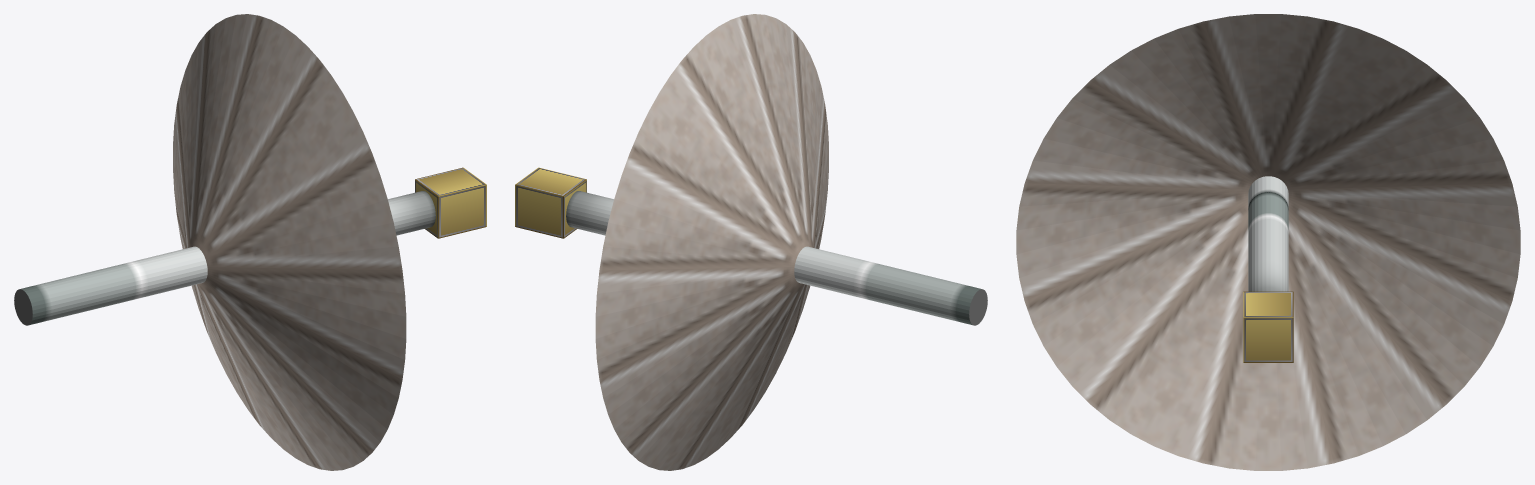
File: apolloj2.obj
3 views of the same model, side by side, from view 1: azimuth 30°, elevation 25°; view 2: azimuth 150°, elevation 25°; view 3: azimuth 270°, elevation 25° (orthographic). The views are drawn at different scales.
Visible parts, largest first — view 1: ColobotMesh_1_ColobotMesh_; view 2: ColobotMesh_1_ColobotMesh_; view 3: ColobotMesh_1_ColobotMesh_.
Part boxes in pixels (x1=…): ColobotMesh_1_ColobotMesh_: x1=14, y1=14, x2=486, y2=470; ColobotMesh_1_ColobotMesh_: x1=515, y1=14, x2=987, y2=470; ColobotMesh_1_ColobotMesh_: x1=1016, y1=14, x2=1520, y2=470.
Size of the model in its own units: 5.58 by 4.99 by 4.99.
